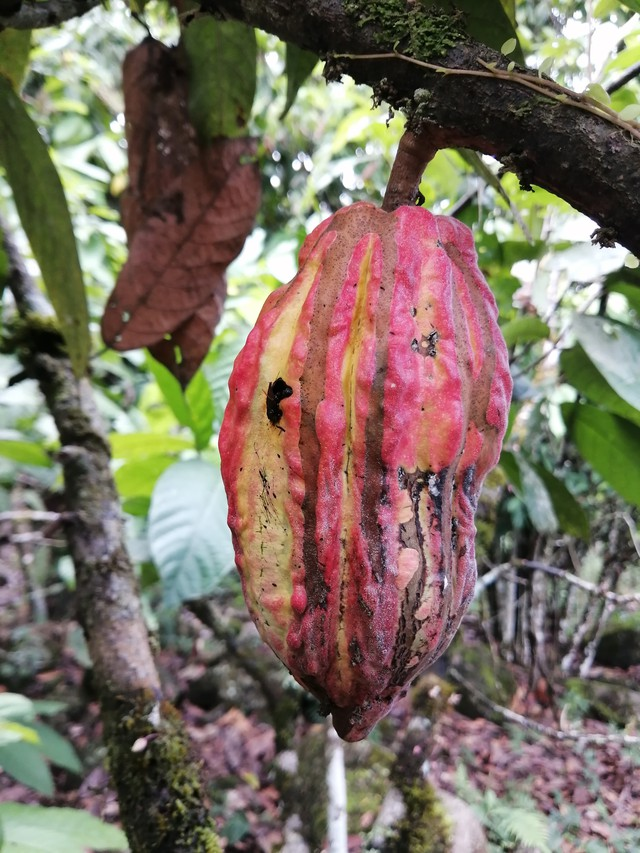carmenta foraseminis: (218, 194, 517, 749)
